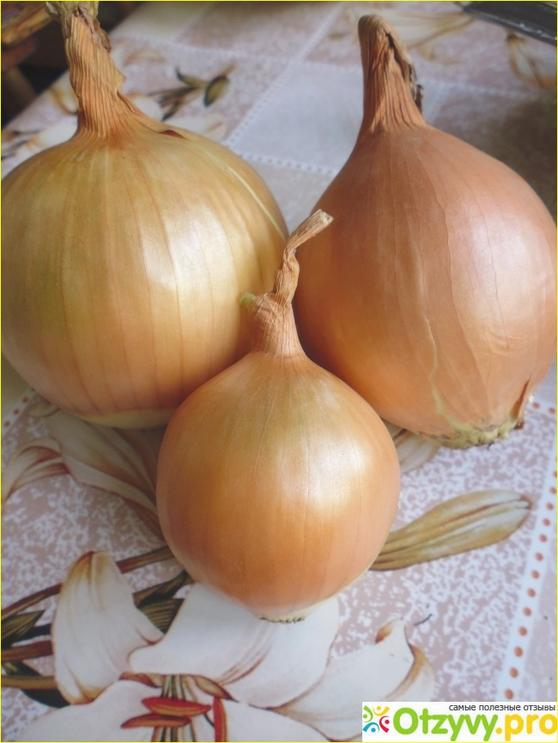onion: (290, 117, 558, 440), (14, 117, 287, 414), (154, 342, 401, 621)
